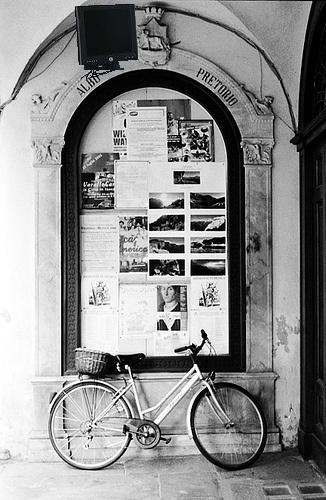tampered: (76, 5, 138, 79)
